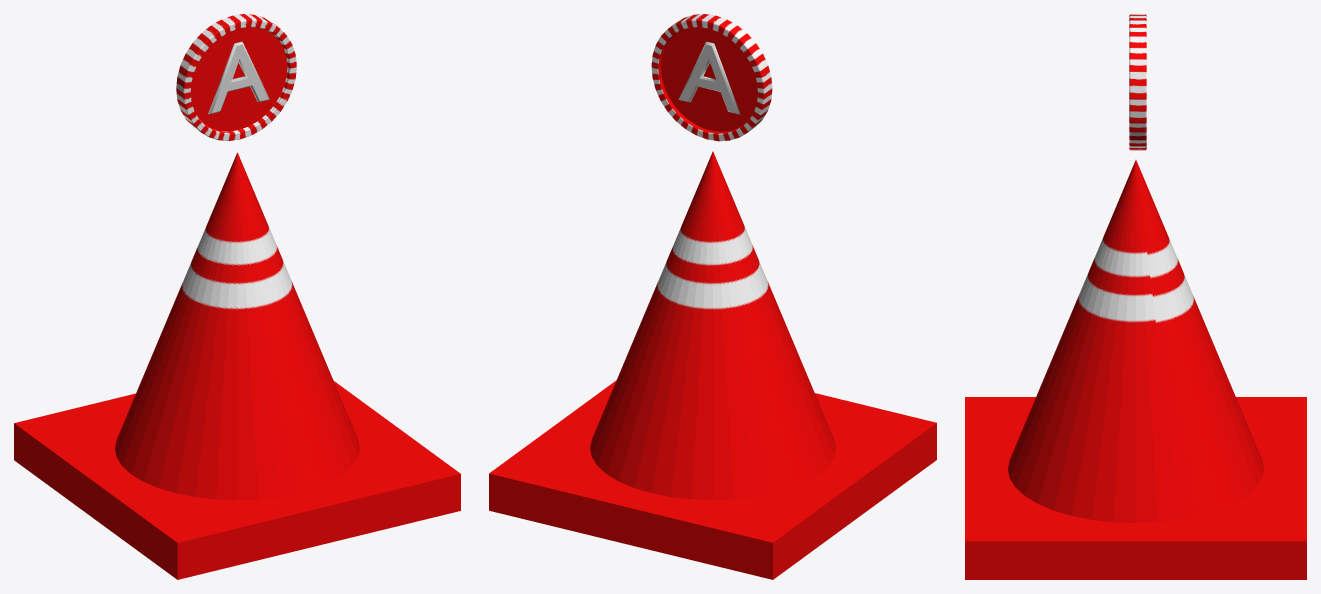
File: cone_with_coin_A.dae
The picture shows the model from 3 angles, left to right: view 1: azimuth 30°, elevation 25°; view 2: azimuth 150°, elevation 25°; view 3: azimuth 270°, elevation 25°; orthographic projection. The views are drawn at different scales.
Parts seen in each view (by area): view 1: Sankaku_Cone, Cylinder_001, Text_003; view 2: Sankaku_Cone, Cylinder_001, Text_000; view 3: Sankaku_Cone, Cylinder_001.
Part boxes in pixels (x1,y1,x2,y2): Sankaku_Cone: (14, 152, 460, 579); Cylinder_001: (176, 14, 296, 140); Text_003: (208, 41, 269, 114); Sankaku_Cone: (489, 151, 936, 579); Cylinder_001: (651, 14, 772, 141); Text_000: (678, 41, 740, 114); Sankaku_Cone: (965, 160, 1306, 579); Cylinder_001: (1129, 14, 1146, 150).
Bounding box in the file's own units: 0.4 × 0.4 × 0.6295.
Materials: 2 (2 with a texture image).
